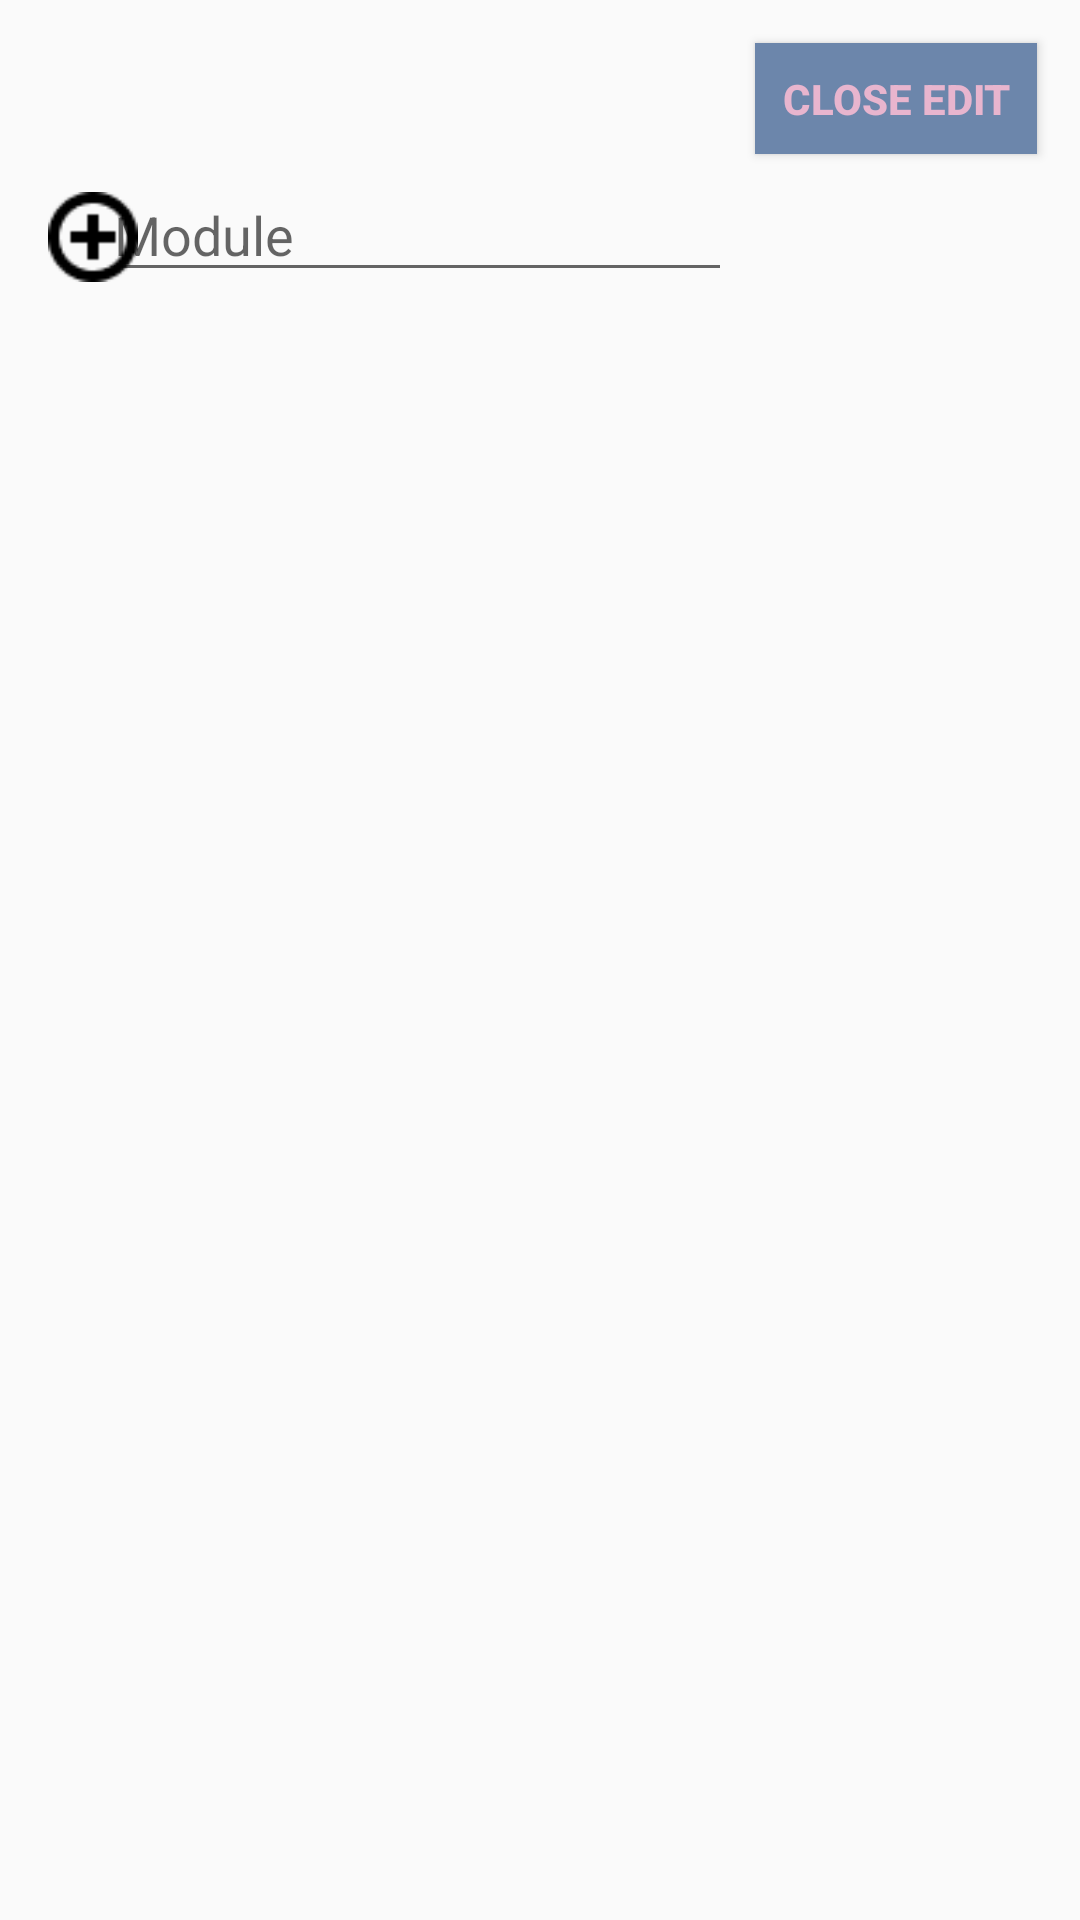

Screen size 1080w x 1920h. Icon name, then its center in pixels as (x=x, y=y):
plus: (x=93, y=237)
